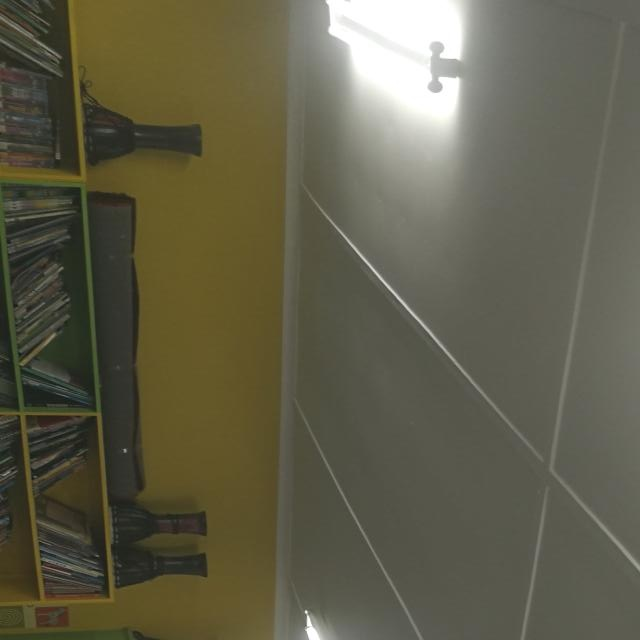fluorescent tube: (297, 3, 459, 95), (282, 597, 403, 640)
